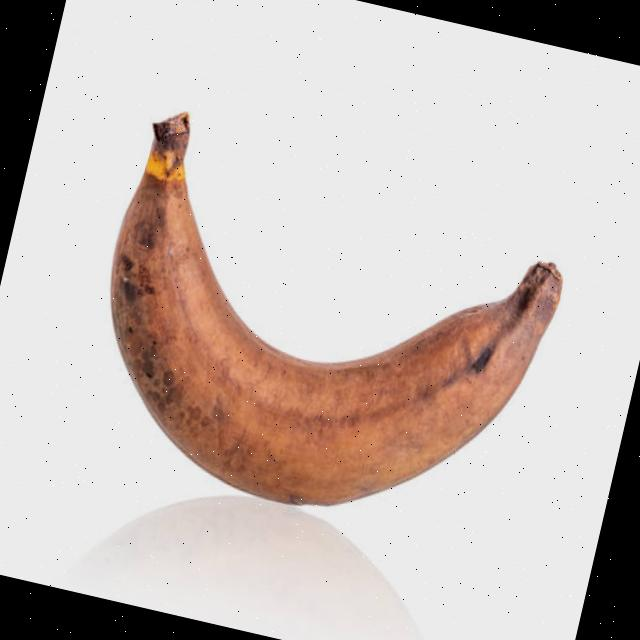overripe: (62, 95, 588, 560)
